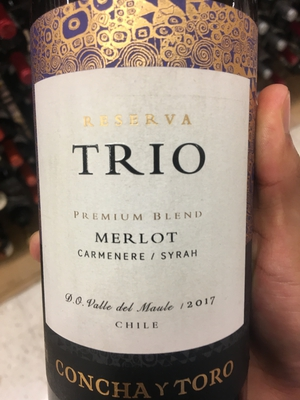trio merlot: (33, 4, 255, 400)
